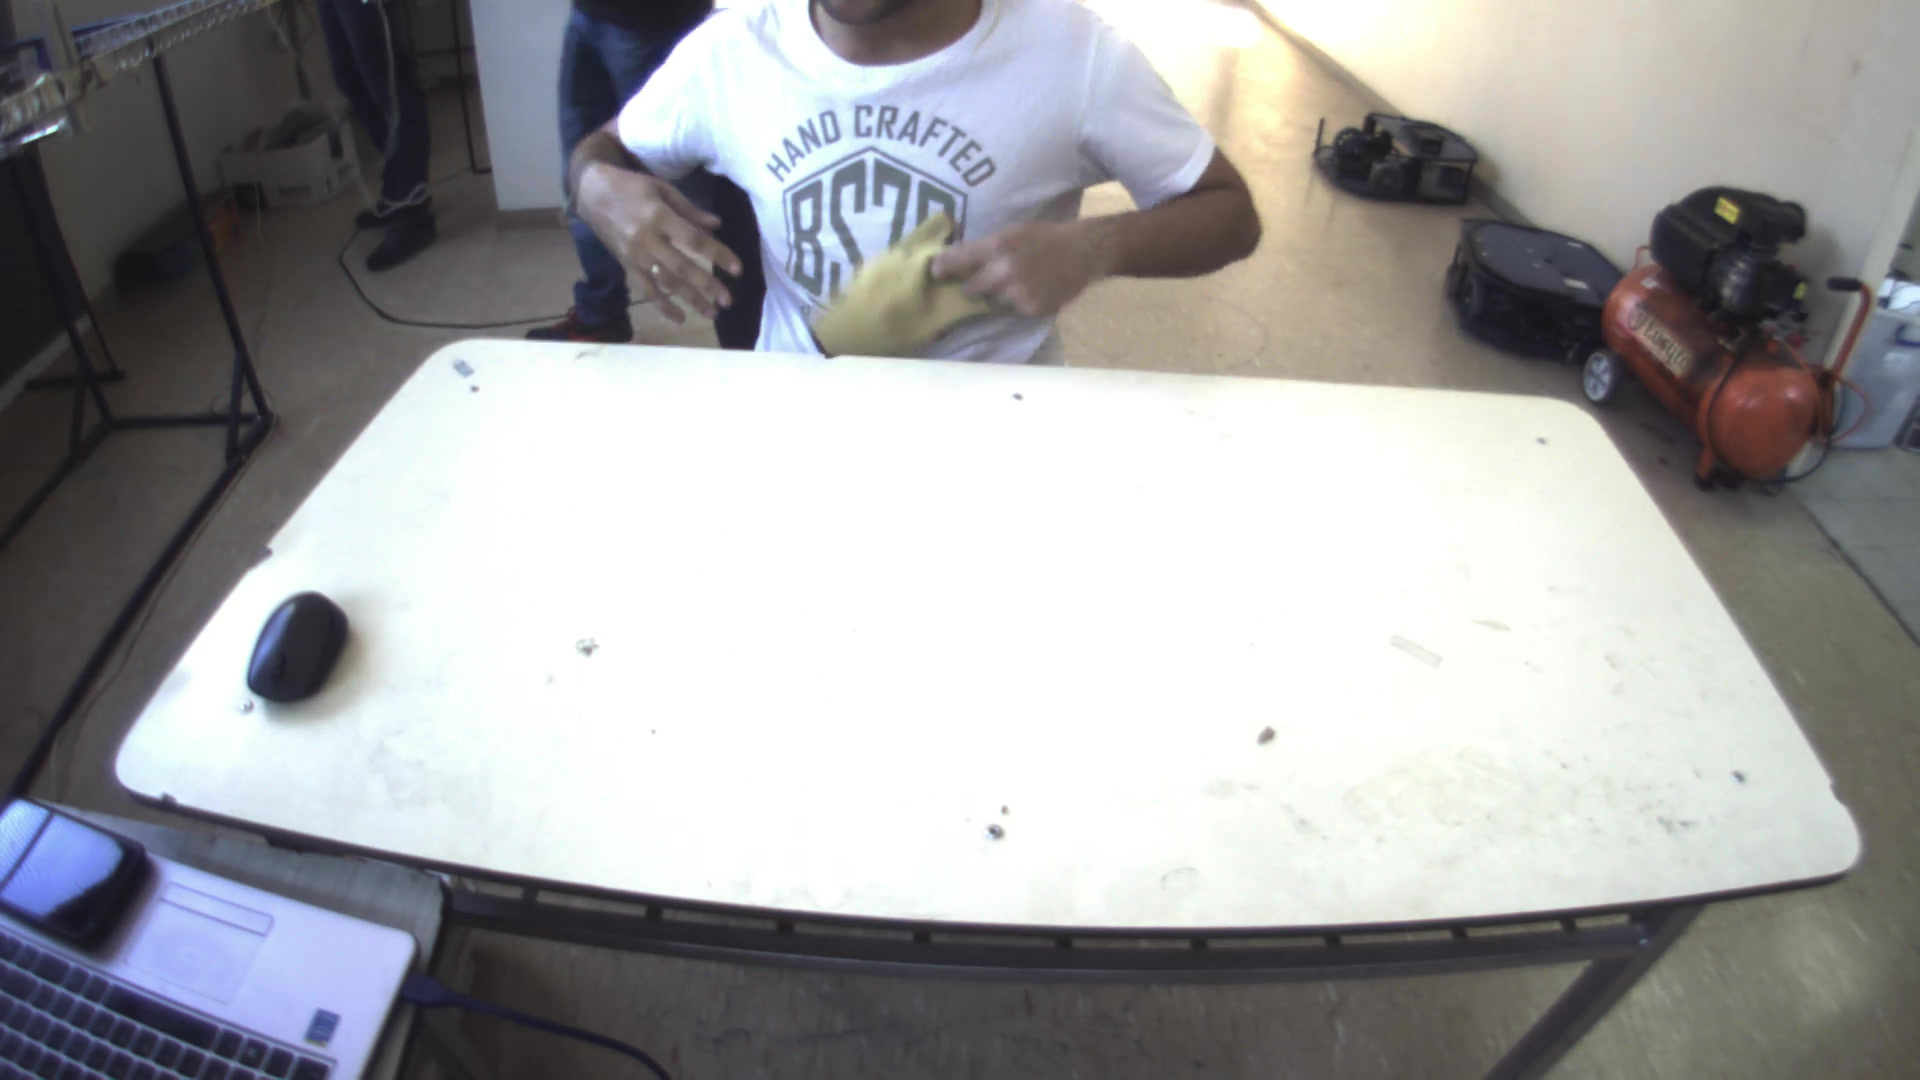hand: (570, 142, 749, 314), (956, 193, 1104, 327)
